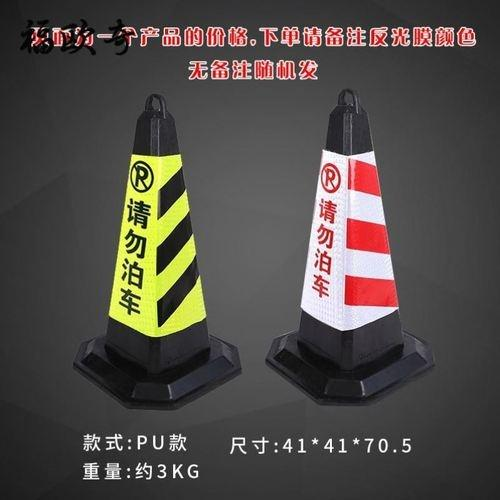cone_barrel: (263, 87, 427, 388), (74, 95, 230, 406)
